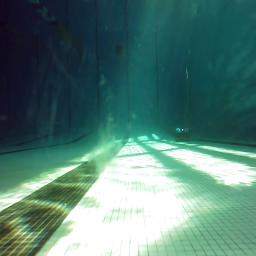Full: (115, 50, 123, 55)
front: (173, 126, 192, 143)
